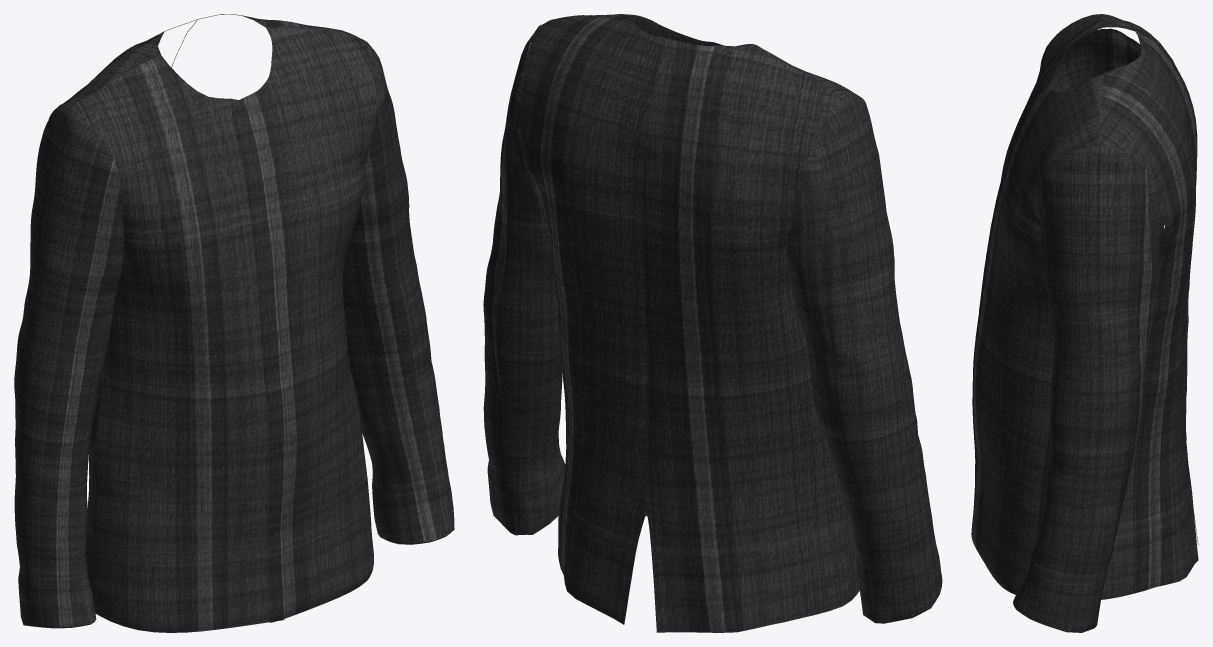
File: rounded_suit.glb
3 renders of one model, left to right at view 1: azimuth 30°, elevation 25°; view 2: azimuth 150°, elevation 25°; view 3: azimuth 270°, elevation 25°, orthographic. The views are drawn at different scales.
Visible parts, largest first — view 1: Pattern_4399210_Node.003, Pattern_4399210_Node.001, Pattern_4399210_Node.002; view 2: Pattern_4399210_Node.003, Pattern_4399210_Node.001, Pattern_4399210_Node.002; view 3: Pattern_4399210_Node.003, Pattern_4399210_Node.002, Pattern_4399210_Node.001.
Boxes of the visible parts, x1=… form: Pattern_4399210_Node.003: x1=60, y1=14, x2=376, y2=632; Pattern_4399210_Node.001: x1=14, y1=105, x2=123, y2=628; Pattern_4399210_Node.002: x1=342, y1=38, x2=454, y2=544; Pattern_4399210_Node.003: x1=520, y1=14, x2=859, y2=632; Pattern_4399210_Node.001: x1=528, y1=93, x2=942, y2=623; Pattern_4399210_Node.002: x1=483, y1=24, x2=565, y2=535; Pattern_4399210_Node.003: x1=971, y1=14, x2=1198, y2=599; Pattern_4399210_Node.002: x1=1013, y1=146, x2=1164, y2=632; Pattern_4399210_Node.001: x1=1045, y1=25, x2=1145, y2=168.
Size of the model in its own units: 61.08 by 75.34 by 30.47.
Materials: 1 (1 with a texture image).
